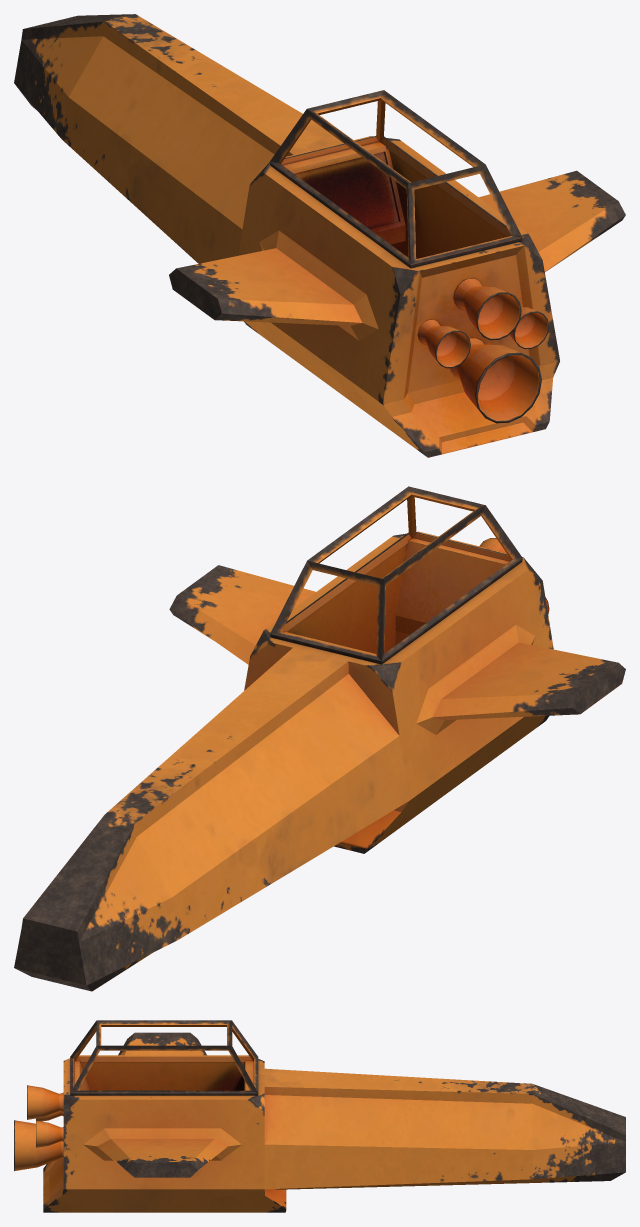
File: ship-body.glb
3 views of the same model, one above another, from view 1: azimuth 30°, elevation 25°; view 2: azimuth 150°, elevation 25°; view 3: azimuth 270°, elevation 25° (orthographic). The views are drawn at different scales.
Visible parts, largest first — view 1: ship-body; view 2: ship-body; view 3: ship-body.
Boxes of the visible parts, <box> form: ship-body: <box>14,14,625,457</box>; ship-body: <box>14,486,625,991</box>; ship-body: <box>14,1020,625,1212</box>.
Size of the model in its own units: 3.12 by 1.76 by 6.09.
1 material, 1 textured.
